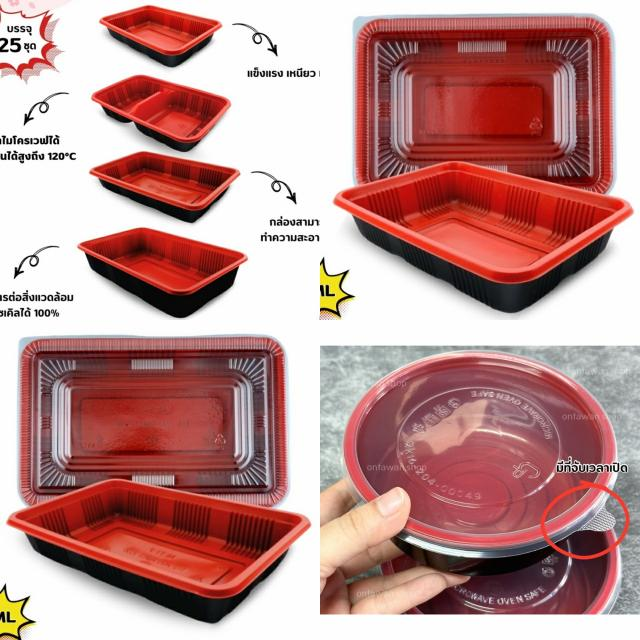Single-Use-Plastic: (334, 343, 637, 566), (355, 15, 614, 192), (19, 336, 288, 505), (334, 161, 632, 312), (8, 479, 310, 622), (79, 228, 248, 318), (90, 151, 240, 222), (91, 75, 230, 150), (100, 5, 221, 66)
